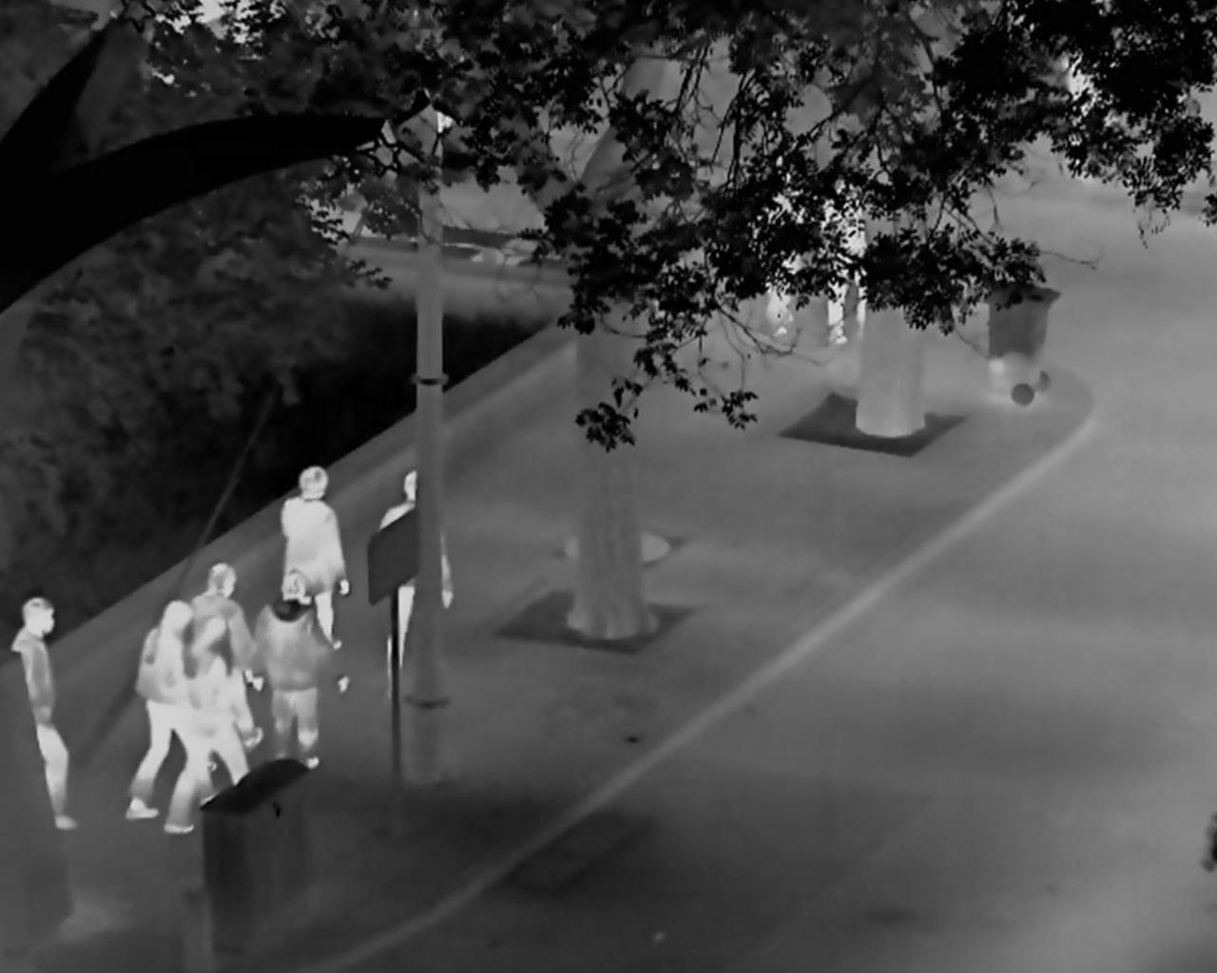person: (124, 599, 222, 822), (163, 614, 252, 834), (253, 571, 351, 768), (377, 467, 455, 698), (10, 594, 78, 830), (187, 562, 264, 748), (279, 464, 352, 651), (744, 155, 817, 337), (815, 167, 868, 345)
